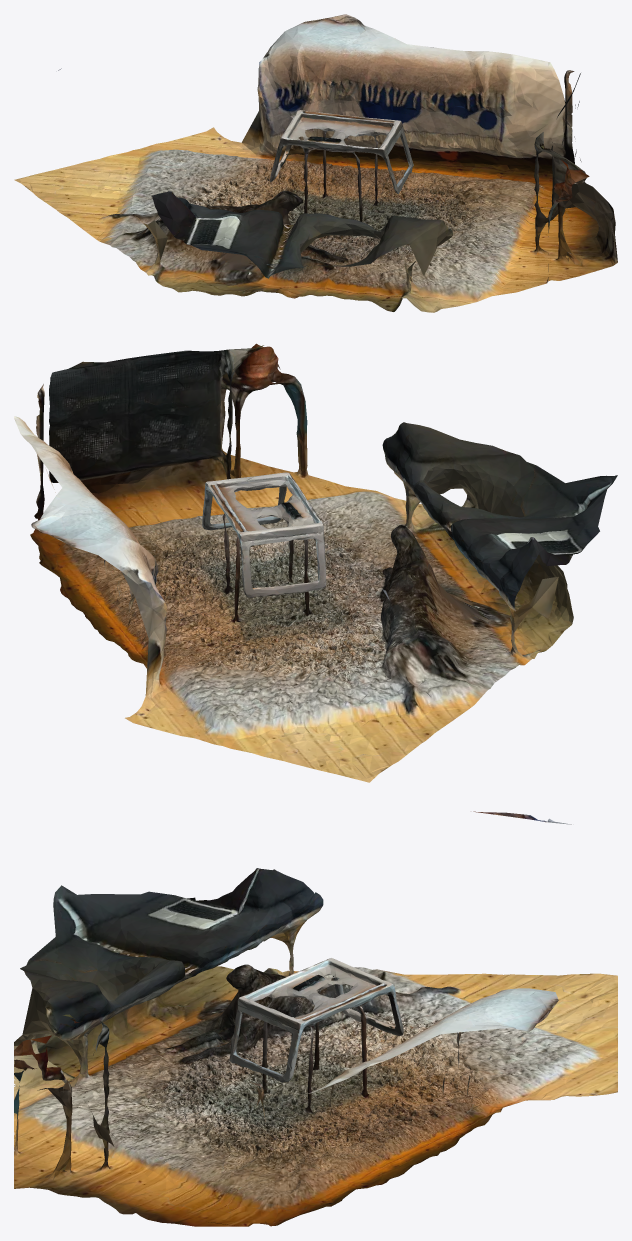
The picture shows the model from 3 angles, top to bottom: view 1: azimuth 30°, elevation 25°; view 2: azimuth 150°, elevation 25°; view 3: azimuth 270°, elevation 25°; orthographic projection. The views are drawn at different scales.
Bounding box in the file's own units: 2.47 × 0.7641 × 2.5.
Materials: 1 (1 with a texture image).
